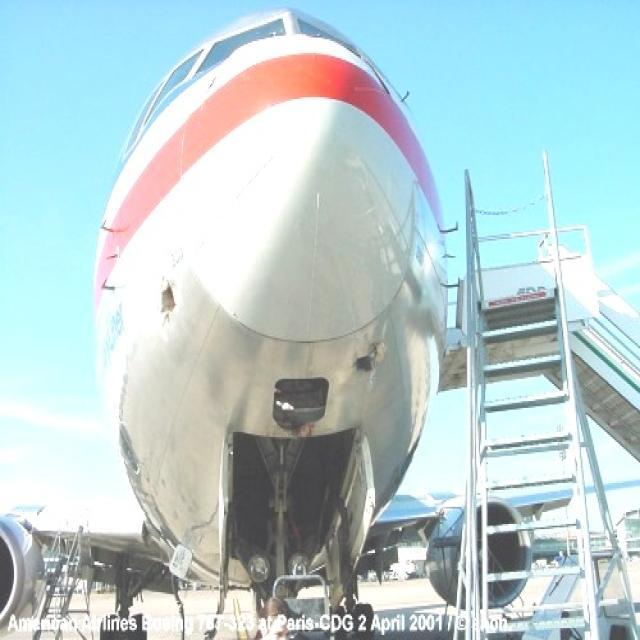dent: (351, 339, 392, 379), (154, 281, 181, 314)
